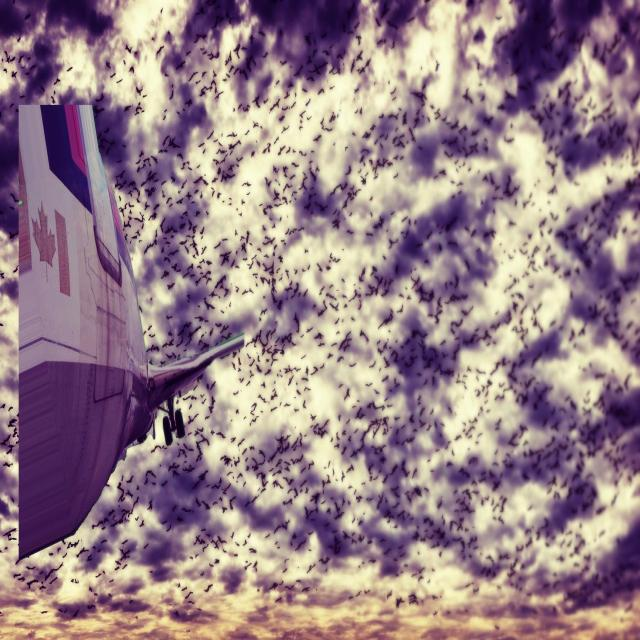airplane: (15, 101, 245, 563)
